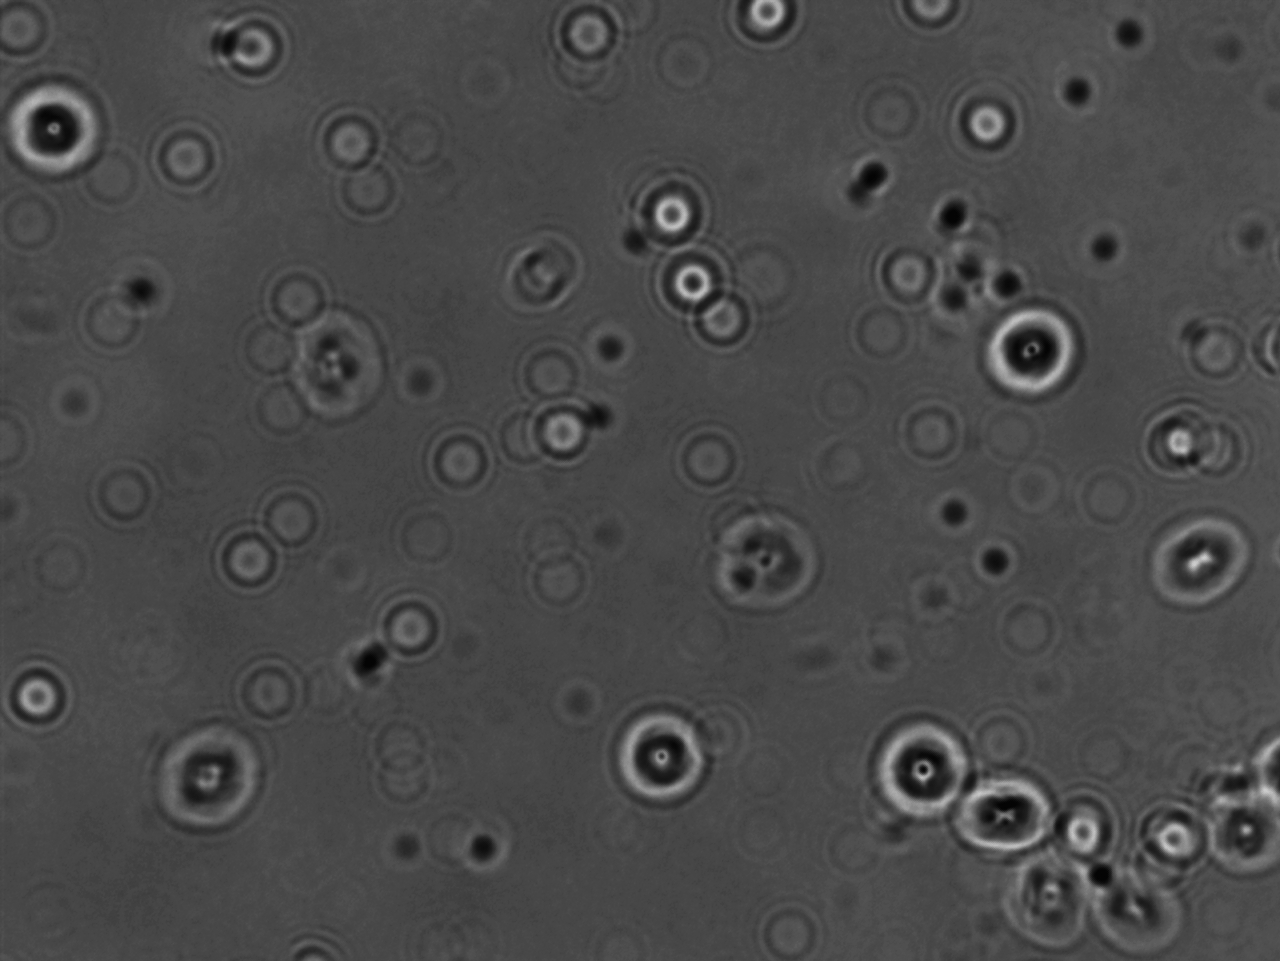depth:-8: (605, 700, 731, 810), (868, 706, 983, 823), (930, 755, 1053, 862), (976, 296, 1093, 407), (0, 71, 117, 178)
